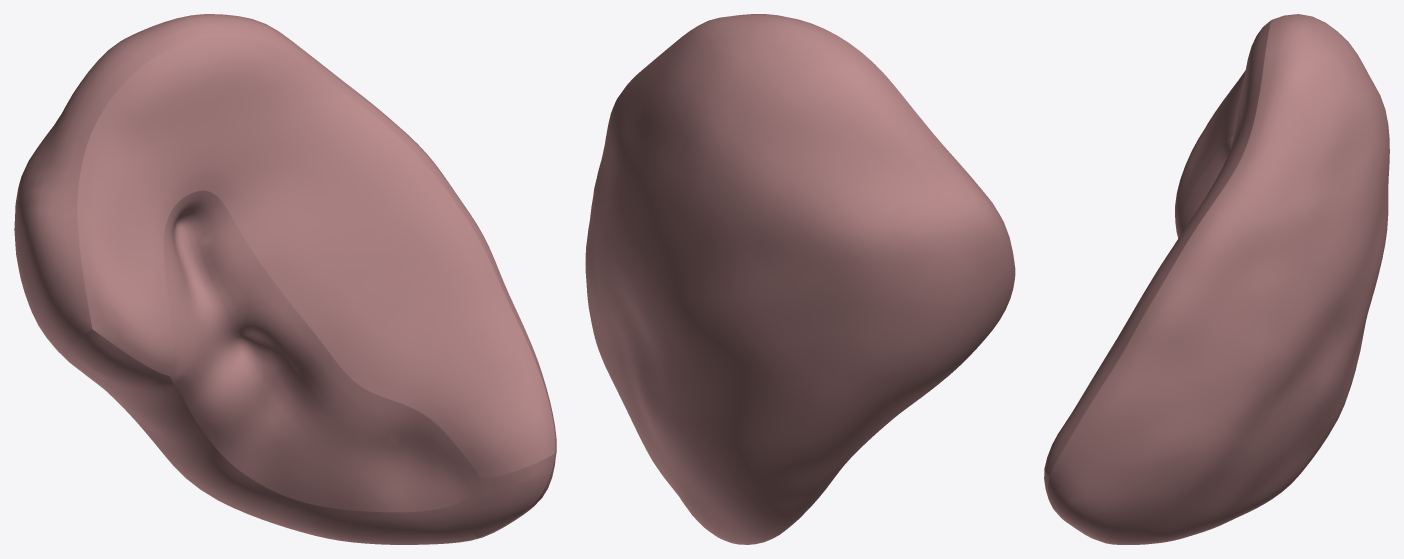
The model's file is spleen.glb.
The picture shows the model from 3 angles, left to right: view 1: azimuth 30°, elevation 25°; view 2: azimuth 150°, elevation 25°; view 3: azimuth 270°, elevation 25°; orthographic projection. The views are drawn at different scales.
Parts seen in each view (by area): view 1: VH_F_gastric_surface_of_spleen; view 2: VH_F_gastric_surface_of_spleen; view 3: VH_F_gastric_surface_of_spleen.
Part boxes in pixels (bbox=[...]): VH_F_gastric_surface_of_spleen: bbox=[14, 14, 556, 544]; VH_F_gastric_surface_of_spleen: bbox=[585, 14, 1015, 544]; VH_F_gastric_surface_of_spleen: bbox=[1044, 14, 1389, 544].
Size of the model in its own units: 0.0896 by 0.1023 by 0.0709.
